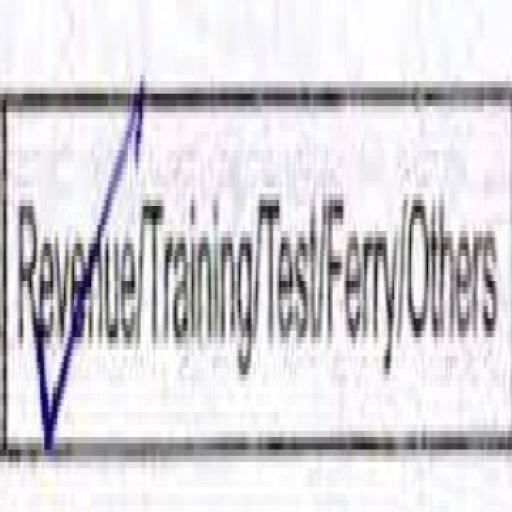check: (0, 0, 145, 495)
